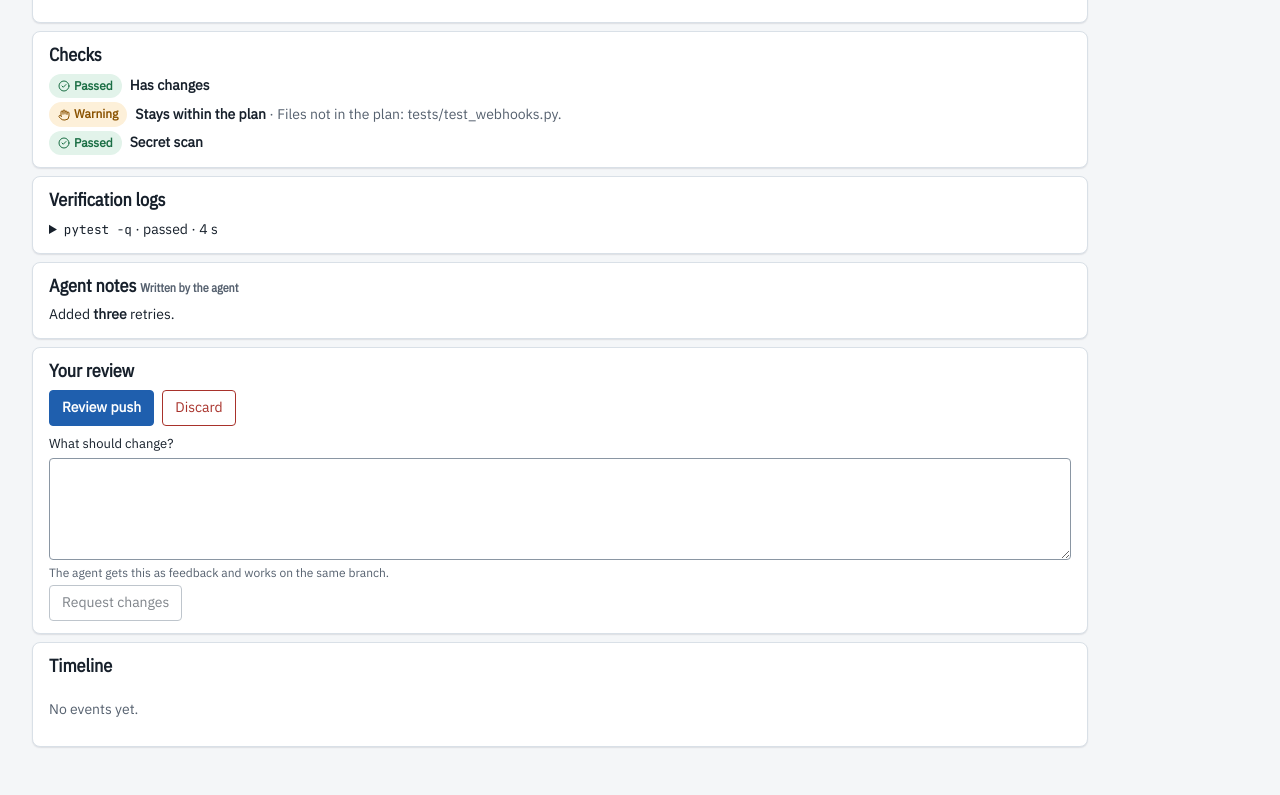
Test: Push review › needs the acknowledgement when checks failed, and names the Gerrit action
Later steps or results of the test are not shown.
(page scrolled)
Click the button "Review push": (102, 408) top-left (49, 390), bottom-right (154, 426)
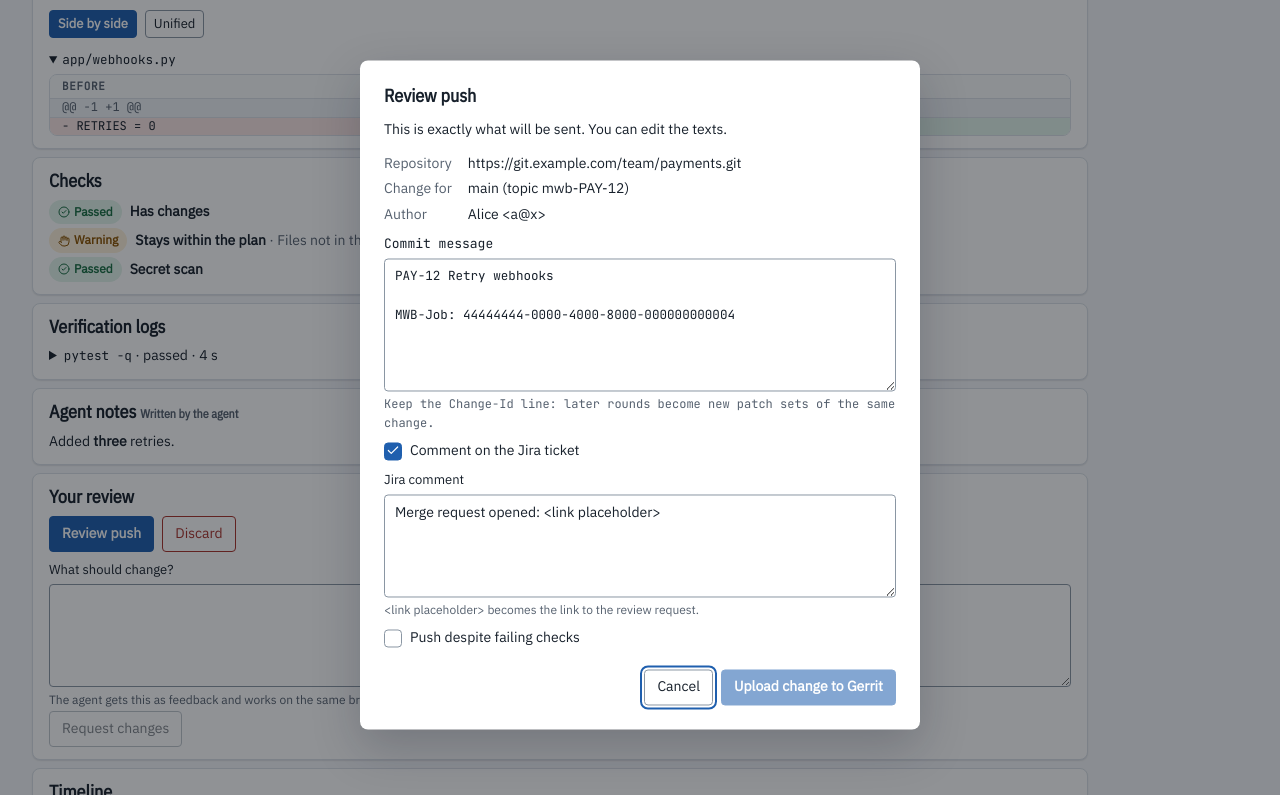
Check: the button "Upload change to Gerrit" is disabled, box top-left (721, 670), bottom-right (896, 706)
Check: the text "Keep the Change-Id line" is shown, box top-left (384, 396), bottom-right (895, 431)
